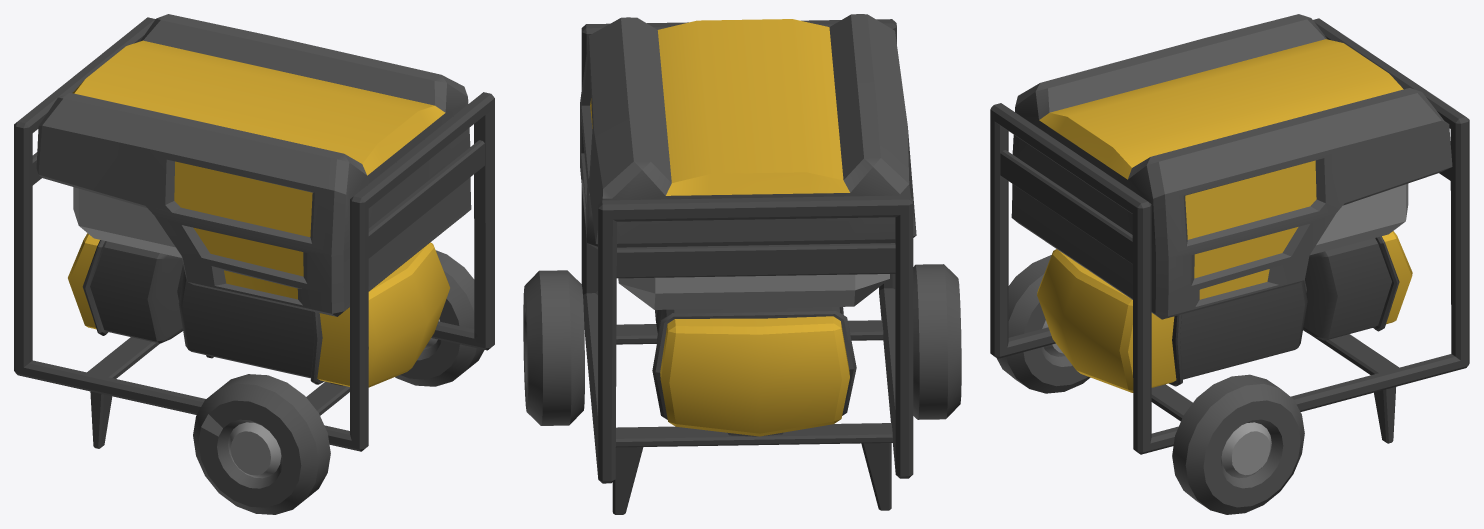
Rendered from Generator.fbx.
3 views of the same model, side by side, from view 1: azimuth 30°, elevation 25°; view 2: azimuth 150°, elevation 25°; view 3: azimuth 270°, elevation 25° (orthographic). The views are drawn at different scales.
Parts seen in each view (by area): view 1: pasted__pasted__pCylinder1; view 2: pasted__pasted__pCylinder1; view 3: pasted__pasted__pCylinder1.
Boxes of the visible parts, <box> form: pasted__pasted__pCylinder1: <box>14,14,494,514</box>; pasted__pasted__pCylinder1: <box>523,14,961,514</box>; pasted__pasted__pCylinder1: <box>990,14,1469,514</box>.
Size of the model in its own units: 1.83 by 1.45 by 1.86.
